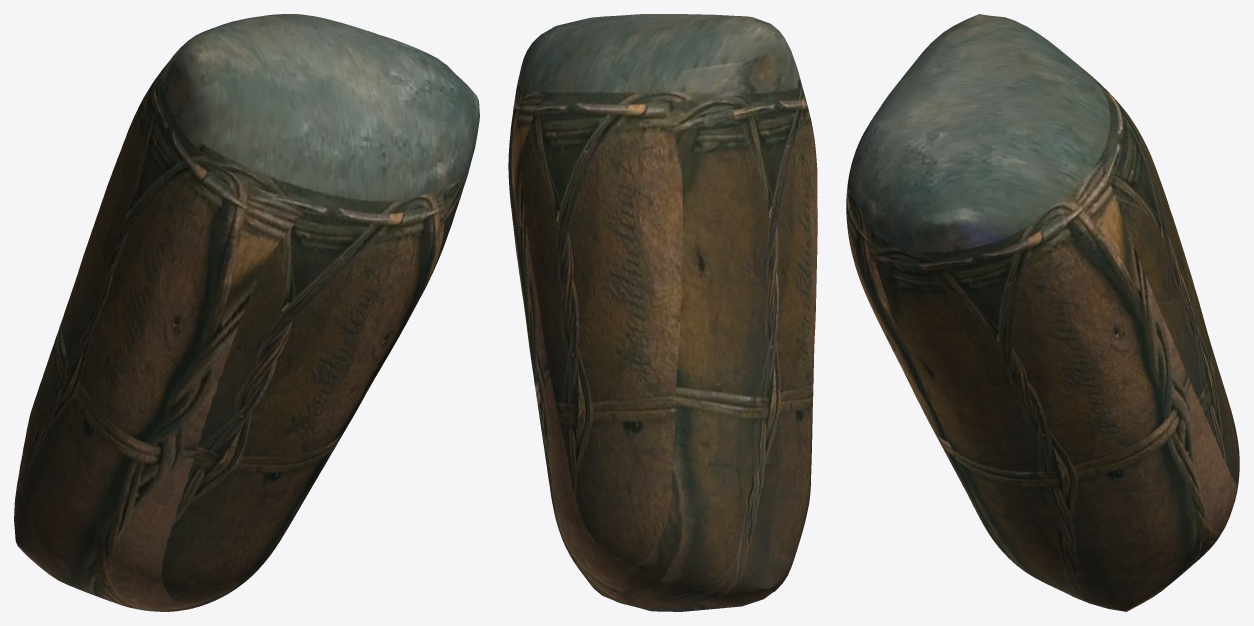
The model's file is taganing.glb.
3 views of the same model, side by side, from view 1: azimuth 30°, elevation 25°; view 2: azimuth 150°, elevation 25°; view 3: azimuth 270°, elevation 25° (orthographic). The views are drawn at different scales.
Parts seen in each view (by area): view 1: Object_5; view 2: Object_5; view 3: Object_5.
Part boxes in pixels (box(x1,y1,x2,y2)): Object_5: box(14, 14, 479, 611); Object_5: box(508, 14, 817, 611); Object_5: box(846, 14, 1239, 611).
Size of the model in its own units: 0.3568 by 0.5686 by 0.3608.
1 material, 1 textured.
